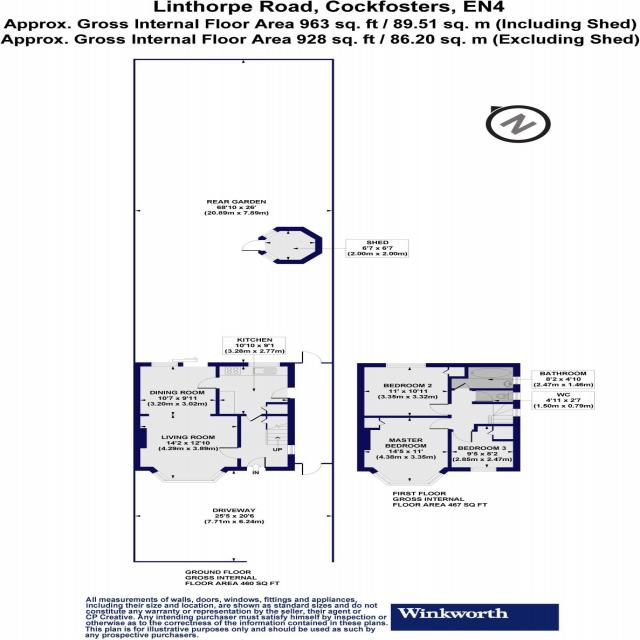DOOR: (270, 387, 295, 399), (452, 429, 473, 443), (471, 390, 495, 402), (196, 377, 220, 389), (246, 457, 266, 471), (429, 403, 452, 415), (219, 447, 241, 459), (429, 418, 452, 429), (453, 382, 470, 391), (245, 414, 262, 422)
ROOM: (133, 362, 241, 483), (357, 416, 452, 486), (357, 363, 469, 418), (197, 362, 295, 422), (448, 424, 521, 472)
WINDOW: (372, 471, 445, 486), (152, 470, 227, 483), (385, 363, 427, 368), (247, 362, 281, 367), (150, 362, 179, 367), (470, 467, 497, 472), (287, 445, 295, 455), (513, 408, 521, 417), (513, 376, 521, 385), (513, 392, 521, 400)
